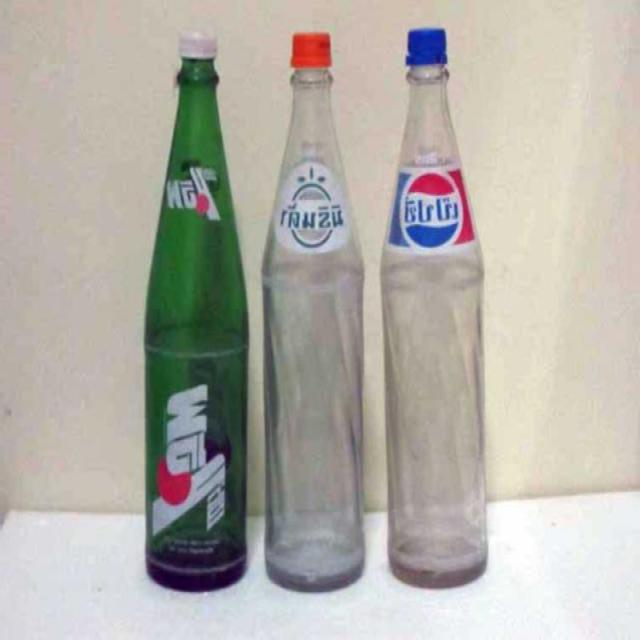glass: (380, 27, 488, 593), (143, 31, 250, 597), (262, 31, 366, 594)
